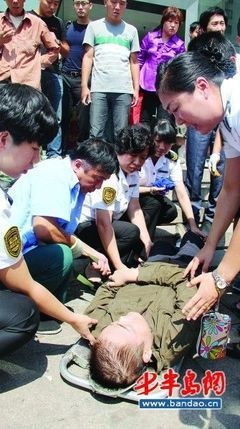falling: (75, 225, 208, 395)
